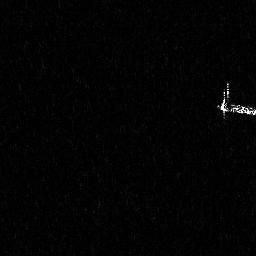ship: (215, 80, 256, 120)
